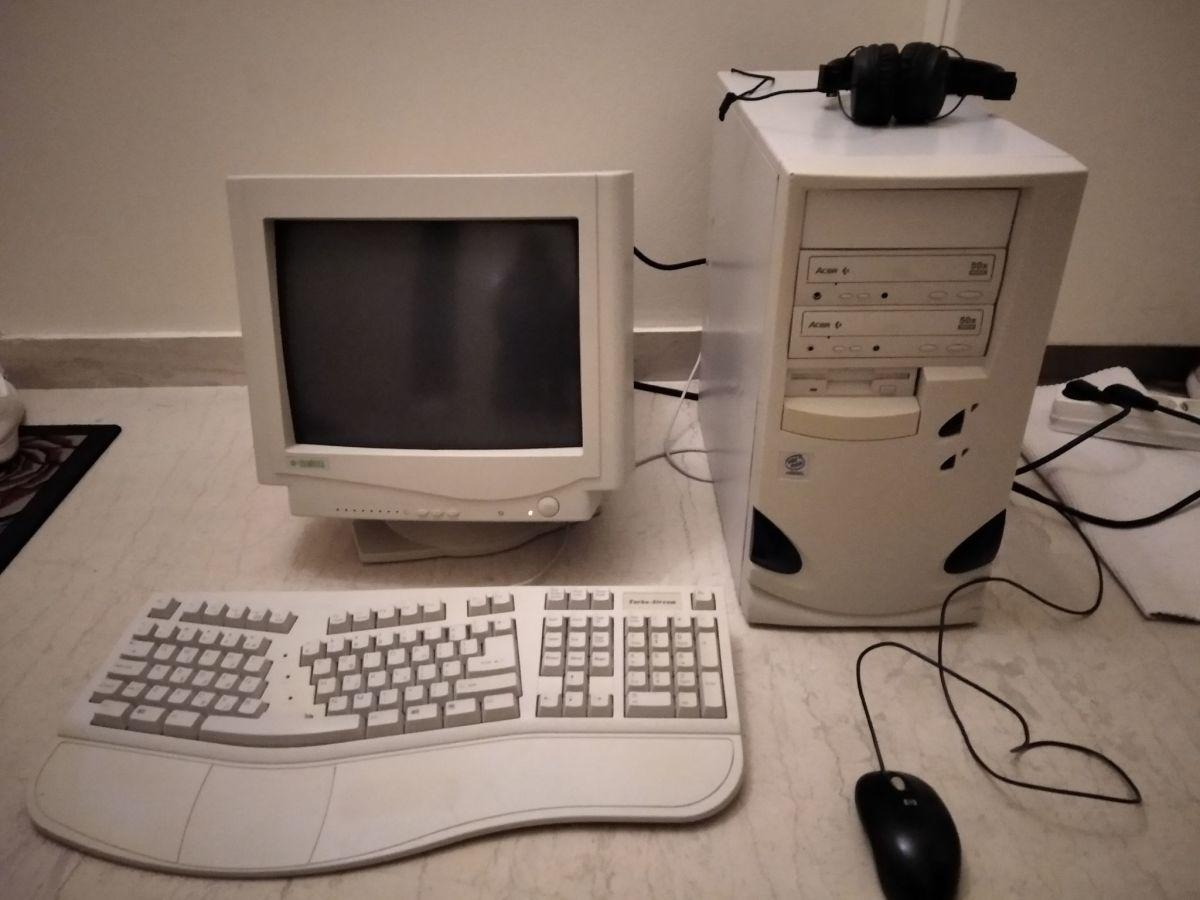DESKTOP PC: (715, 70, 1086, 631)
Monitors: (229, 163, 633, 532)
